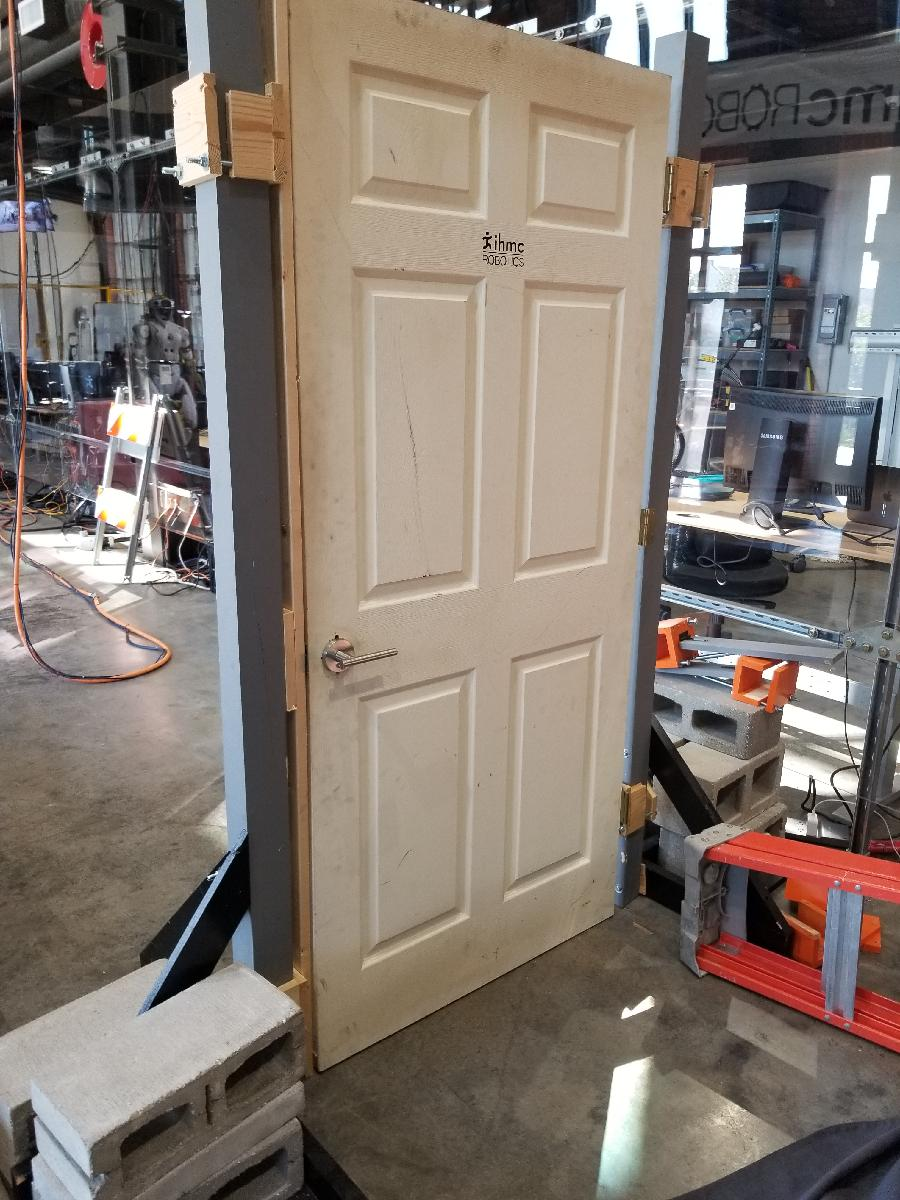door: (277, 1, 675, 1087)
doorHandle: (315, 635, 406, 688)
